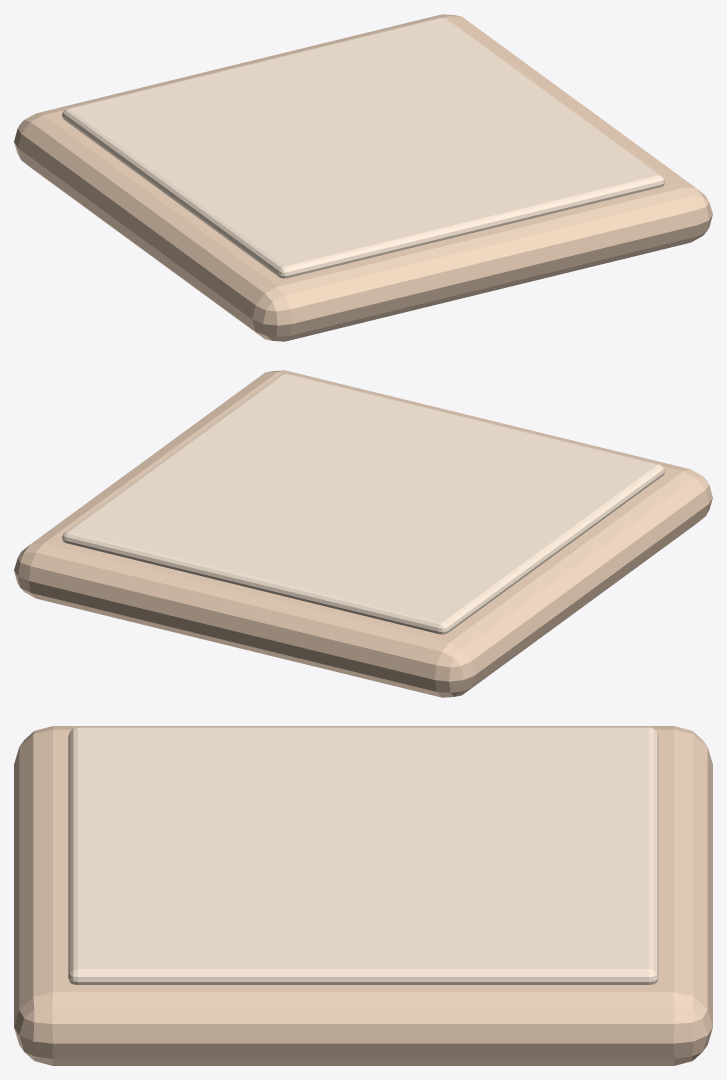
File: PR3D_Tile_Ceramic.glb
3 views of the same model, one above another, from view 1: azimuth 30°, elevation 25°; view 2: azimuth 150°, elevation 25°; view 3: azimuth 270°, elevation 25° (orthographic). The views are drawn at different scales.
Parts seen in each view (by area): view 1: PR3D003_Visual_TileInset, PR3D003_Visual_TileBase; view 2: PR3D003_Visual_TileInset, PR3D003_Visual_TileBase; view 3: PR3D003_Visual_TileInset, PR3D003_Visual_TileBase.
Part boxes in pixels (x1,y1,x2,y2): PR3D003_Visual_TileInset: (62, 17, 664, 278); PR3D003_Visual_TileBase: (14, 14, 712, 341); PR3D003_Visual_TileInset: (62, 373, 664, 634); PR3D003_Visual_TileBase: (14, 370, 712, 697); PR3D003_Visual_TileInset: (68, 727, 658, 984); PR3D003_Visual_TileBase: (14, 726, 712, 1065).
Size of the model in its own units: 0.9 by 0.1175 by 0.9.
